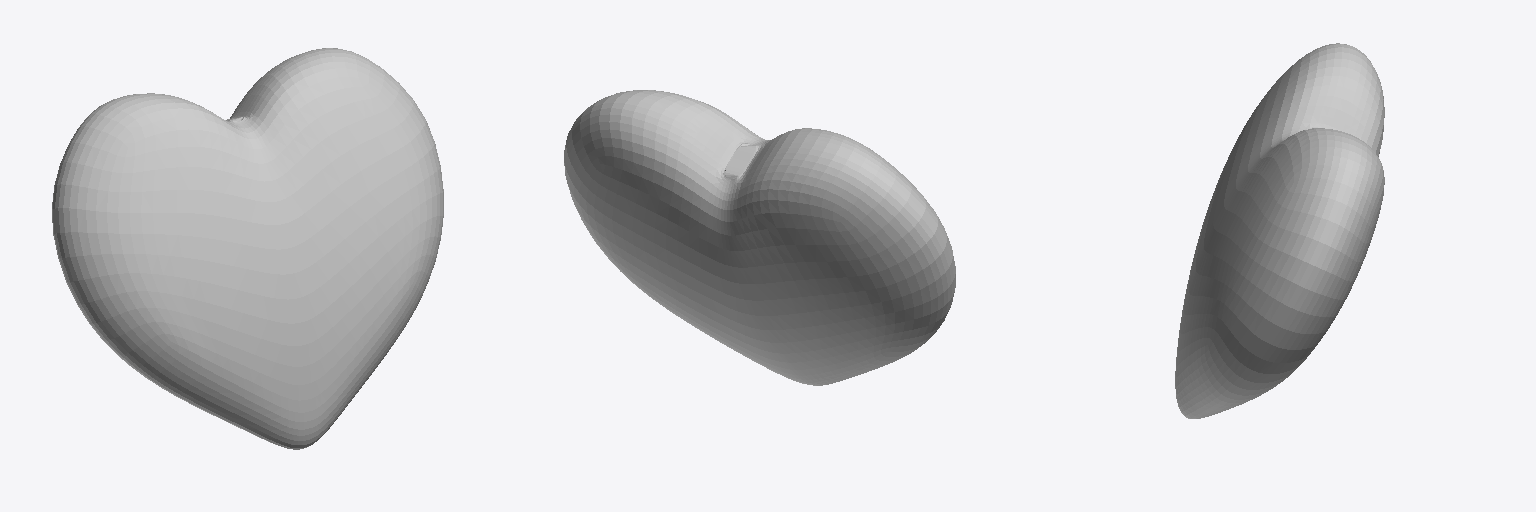
File: heart.obj
3 renders of one model, left to right at view 1: azimuth 30°, elevation 25°; view 2: azimuth 150°, elevation 25°; view 3: azimuth 270°, elevation 25°, orthographic.
Visible parts, largest first — view 1: heart_1_:Box01; view 2: heart_1_:Box01; view 3: heart_1_:Box01.
Boxes of the visible parts, x1=… form: heart_1_:Box01: x1=52, y1=48, x2=443, y2=449; heart_1_:Box01: x1=564, y1=90, x2=955, y2=385; heart_1_:Box01: x1=1175, y1=43, x2=1384, y2=418.
Bounding box in the file's own units: 1.7 × 1.38 × 0.8228.